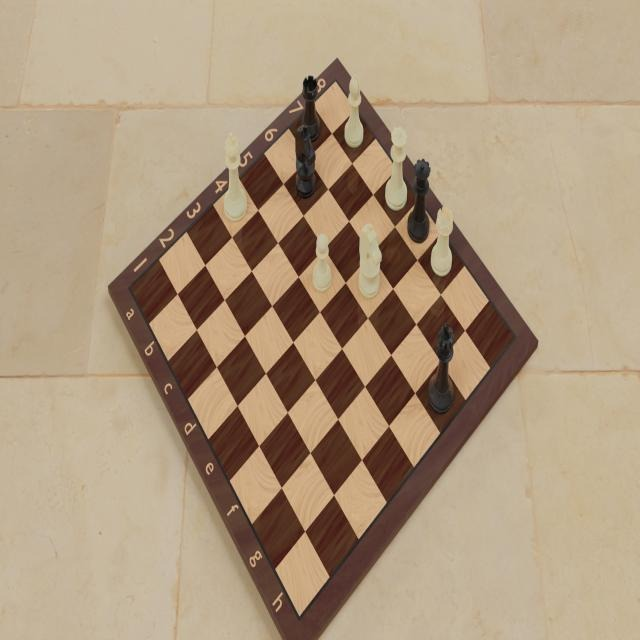black-king: (426, 322, 456, 421)
black-knight: (293, 124, 318, 198)
black-queen: (407, 158, 432, 243)
black-rook: (299, 76, 321, 147)
white-bishop: (345, 76, 367, 152)
white-king: (385, 126, 411, 212)
white-knight: (358, 223, 382, 298)
white-pawn: (310, 231, 333, 294)
white-queen: (221, 133, 249, 223)
white-rook: (430, 203, 454, 281)
